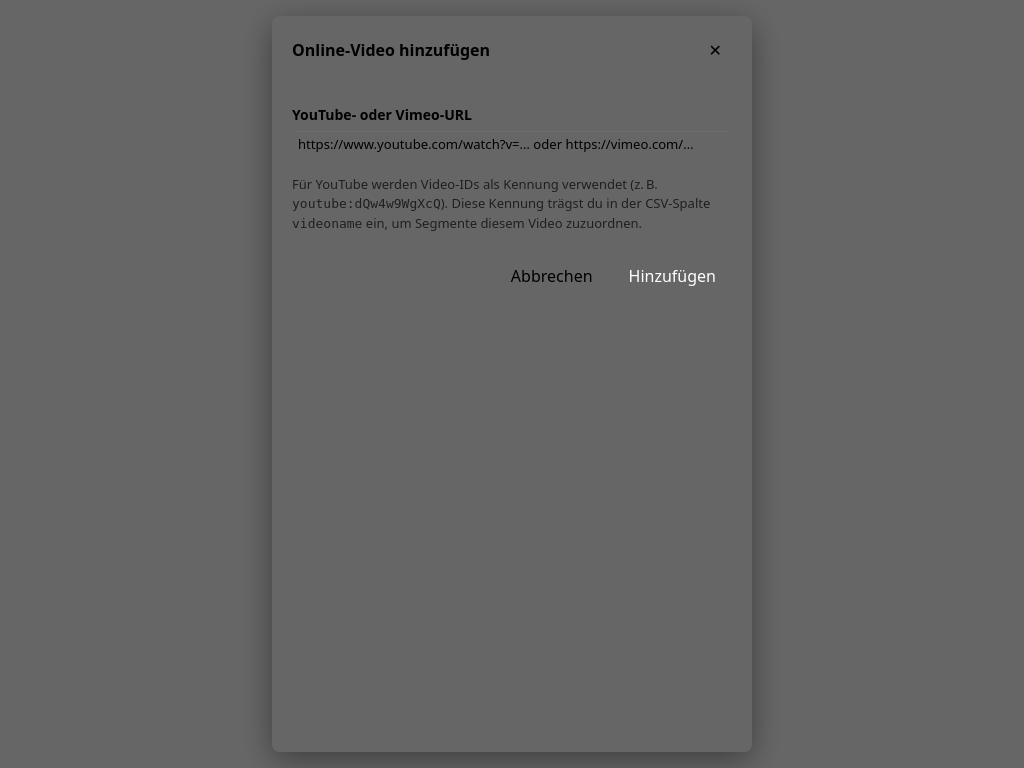
AddOnlineVideoDialog – validation › shows an error when the video is already in the library
In the field labelled "YouTube- oder Vimeo-URL": (512, 145) [292,131,732,159], type "https://www.youtube.com/watch?v=dQw4w9WgXcQ"
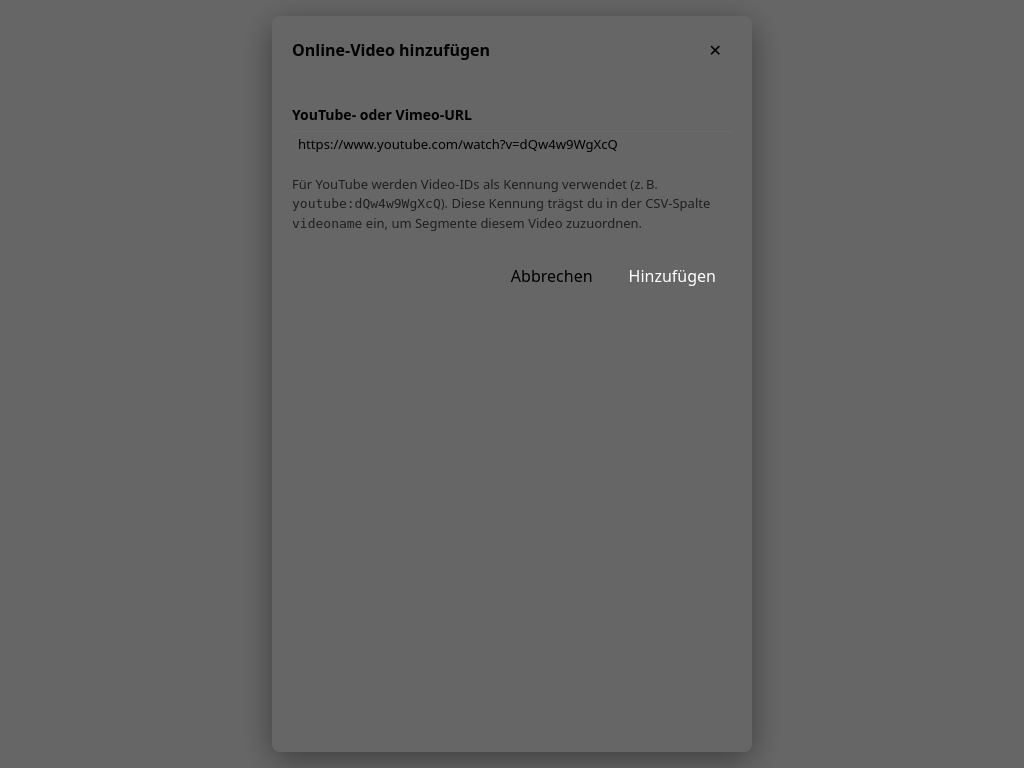
Click the button "Hinzufügen": (672, 276) [613,253,732,299]
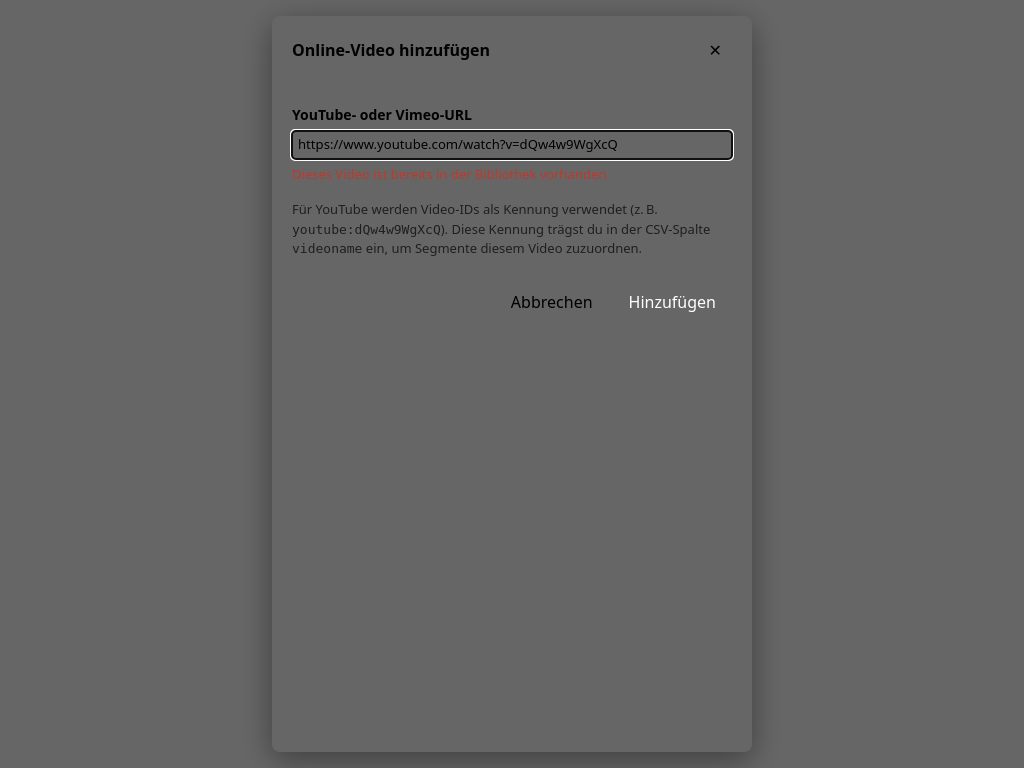
Expected: the message shows "bereits in der Bibliothek", [292,165,610,183]
